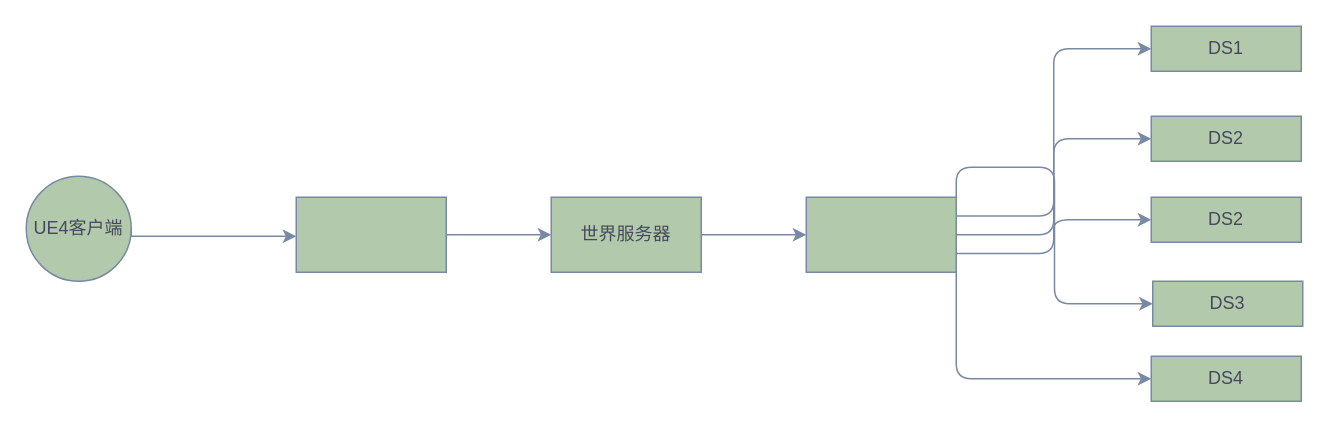
Some shapes in this 1329 by 428 pixel diagram are drawn without their labels. The shapes that lost their labels are listed below. From the top down, each one's centre as x and y in pixels, then its label:
At point (370, 234): "登陆服务器".
At point (880, 234): "控制服务器".
